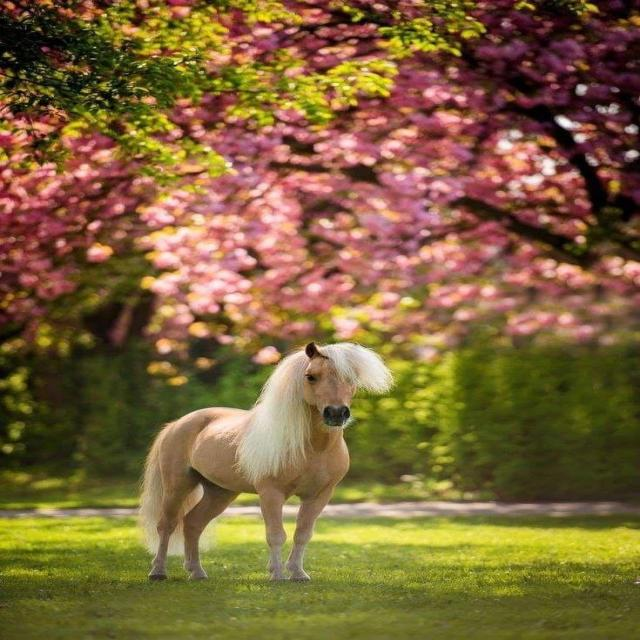horse: (136, 340, 395, 583)
